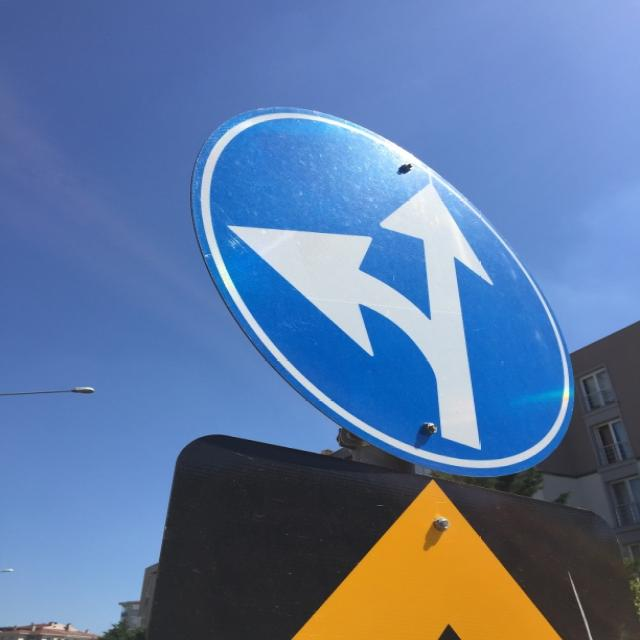ilerisol: (192, 105, 578, 478)
